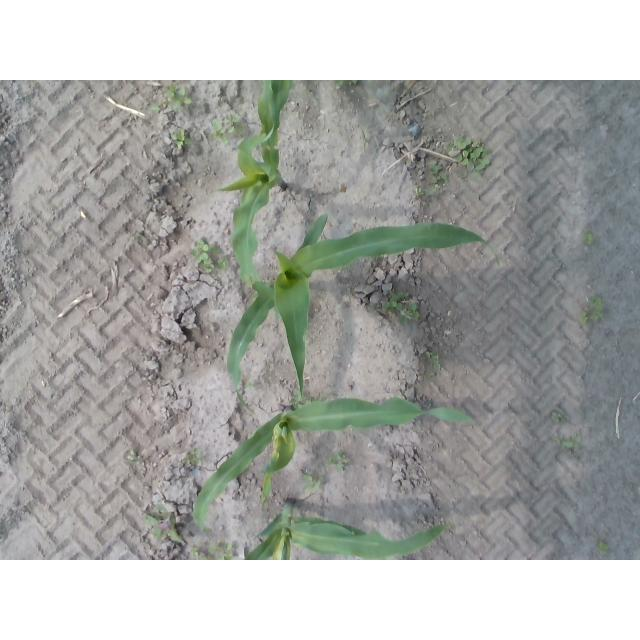Maize: (228, 213, 501, 415), (194, 395, 476, 533), (216, 81, 289, 289), (244, 500, 447, 561)
Weeds: (146, 506, 183, 543), (454, 135, 492, 170), (159, 87, 188, 109), (301, 475, 323, 498), (583, 297, 604, 319), (191, 238, 209, 263), (216, 542, 238, 560), (171, 131, 188, 149), (386, 295, 402, 313), (430, 166, 446, 184), (330, 453, 350, 467), (406, 302, 420, 320), (218, 122, 238, 134), (565, 438, 579, 451), (583, 231, 595, 245), (192, 550, 208, 560), (596, 542, 608, 553), (218, 254, 226, 267), (552, 413, 562, 422)
